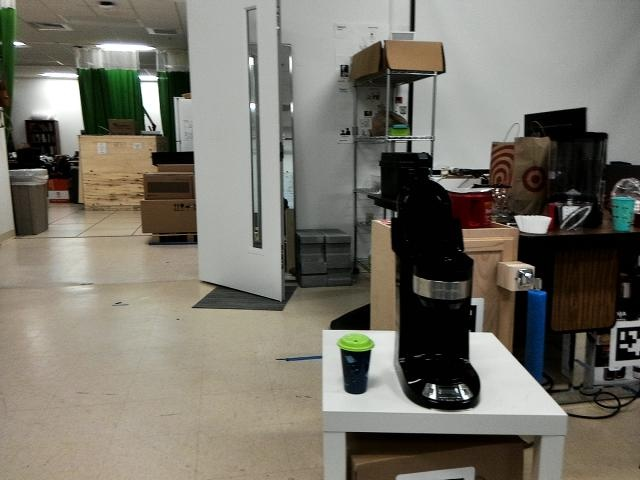coffee_cup: (610, 196, 633, 233)
noodle_handle: (525, 282, 550, 386)
useless_cup: (335, 328, 375, 395)
